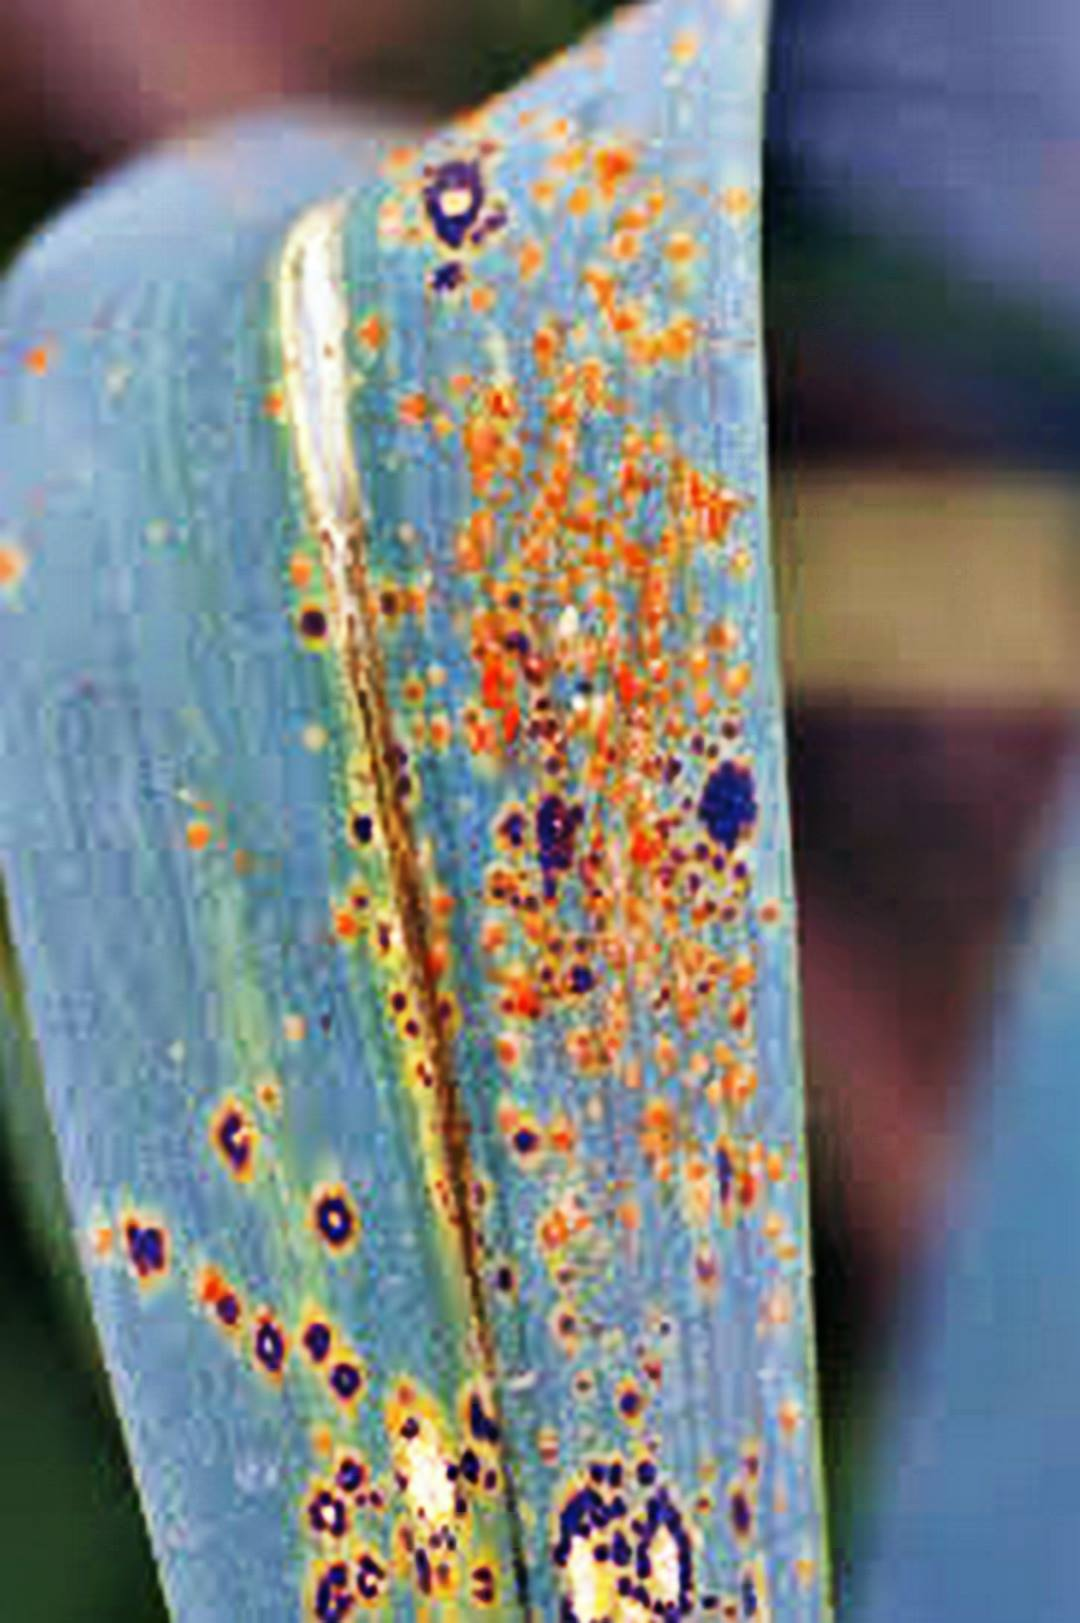Leaf Rust: (141, 190, 830, 1586)
